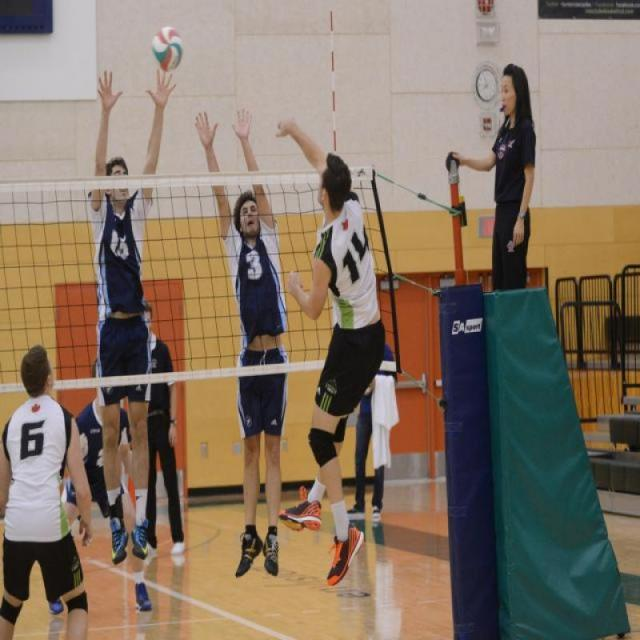volleyball: (150, 25, 183, 72)
